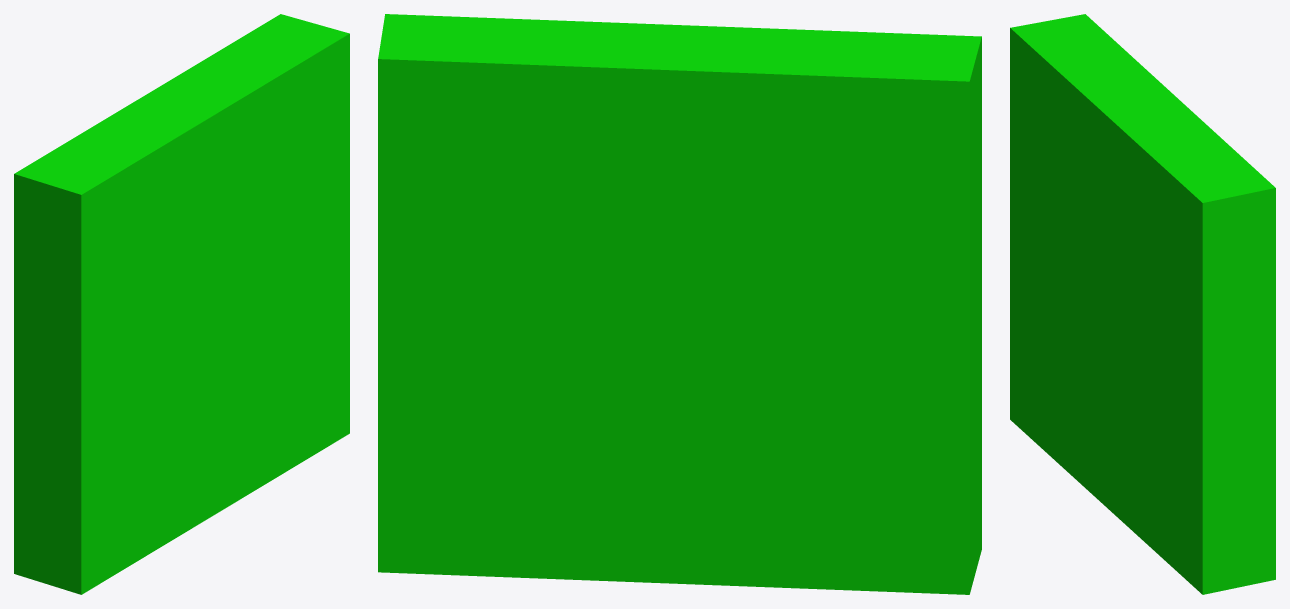
The picture shows the model from 3 angles, left to right: view 1: azimuth 30°, elevation 25°; view 2: azimuth 150°, elevation 25°; view 3: azimuth 270°, elevation 25°; orthographic projection. The views are drawn at different scales.
Parts seen in each view (by area): view 1: Plane.020; view 2: Plane.020; view 3: Plane.020.
Part boxes in pixels (x1,y1,x2,y2): Plane.020: (14,14,349,594); Plane.020: (378,14,981,594); Plane.020: (1010,14,1275,594).
Bounding box in the file's own units: 592 × 572 × 352.
